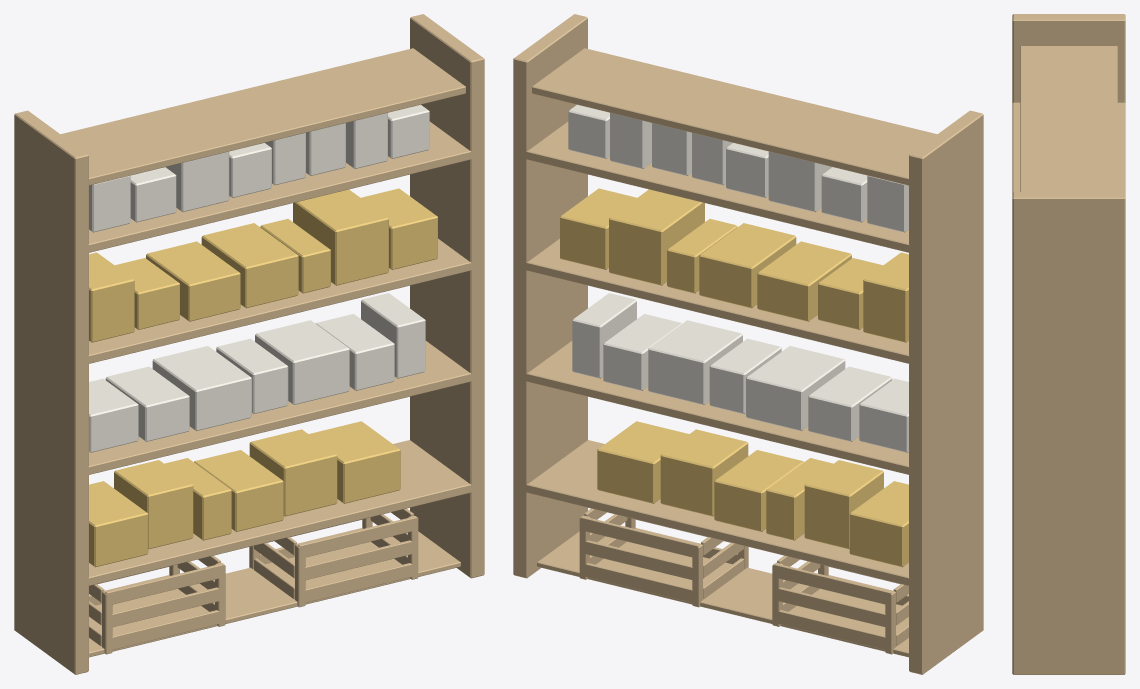
The model's file is indoor-market-hall-and-traders-stall-back-shelving-3462e261.glb.
The picture shows the model from 3 angles, left to right: view 1: azimuth 30°, elevation 25°; view 2: azimuth 150°, elevation 25°; view 3: azimuth 270°, elevation 25°; orthographic projection. The views are drawn at different scales.
Visible parts, largest first — view 1: stall-back-shelving; view 2: stall-back-shelving; view 3: stall-back-shelving.
Boxes of the visible parts, x1=… form: stall-back-shelving: x1=14, y1=14, x2=484, y2=674; stall-back-shelving: x1=513, y1=14, x2=983, y2=674; stall-back-shelving: x1=1012, y1=14, x2=1125, y2=674.
Bounding box in the file's own units: 1.7 × 2.05 × 0.4399.
